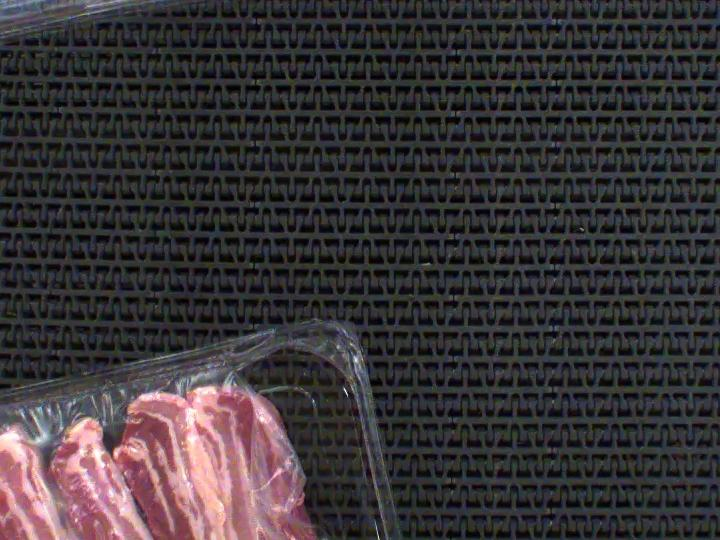unsealed: (0, 358, 369, 540)
